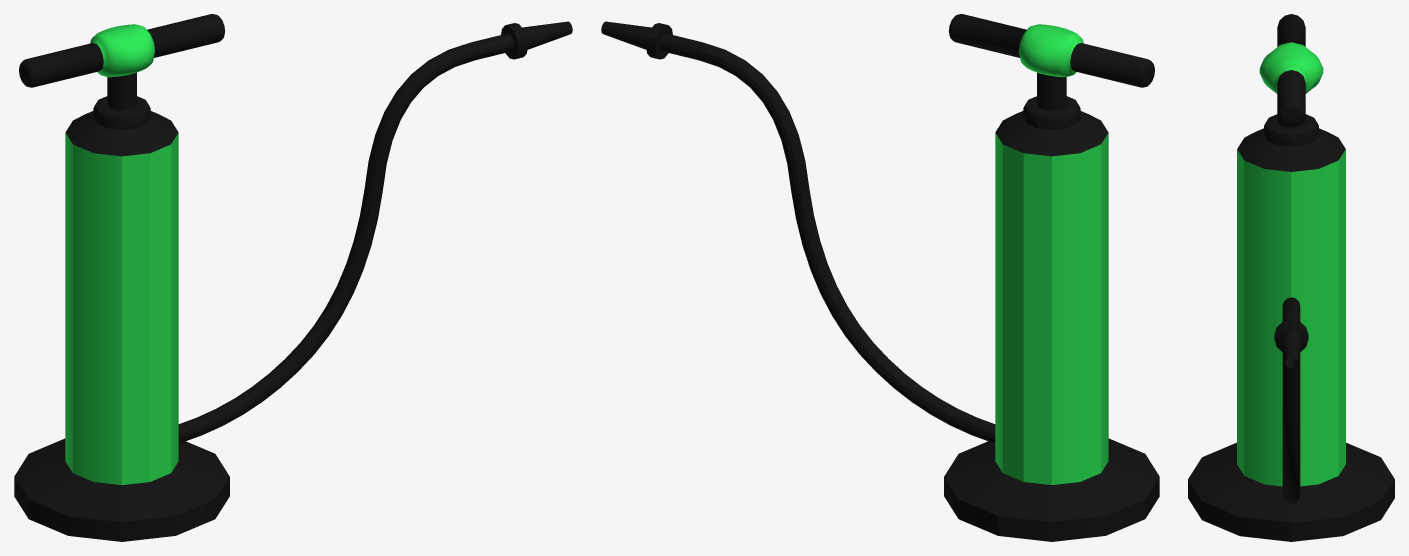
Rendered from Pompa_V2.fbx.
3 renders of one model, left to right at view 1: azimuth 30°, elevation 25°; view 2: azimuth 150°, elevation 25°; view 3: azimuth 270°, elevation 25°, orthographic. The views are drawn at different scales.
Visible parts, largest first — view 1: Cylinder.010, Cylinder.011; view 2: Cylinder.010, Cylinder.011; view 3: Cylinder.010, Cylinder.011.
Boxes of the visible parts, x1=… form: Cylinder.010: x1=14, y1=21, x2=572, y2=541; Cylinder.011: x1=19, y1=14, x2=224, y2=110; Cylinder.010: x1=601, y1=21, x2=1159, y2=541; Cylinder.011: x1=949, y1=14, x2=1154, y2=110; Cylinder.010: x1=1188, y1=114, x2=1394, y2=541; Cylinder.011: x1=1259, y1=14, x2=1323, y2=127.
Bounding box in the file's own units: 147 × 120 × 50.44.
